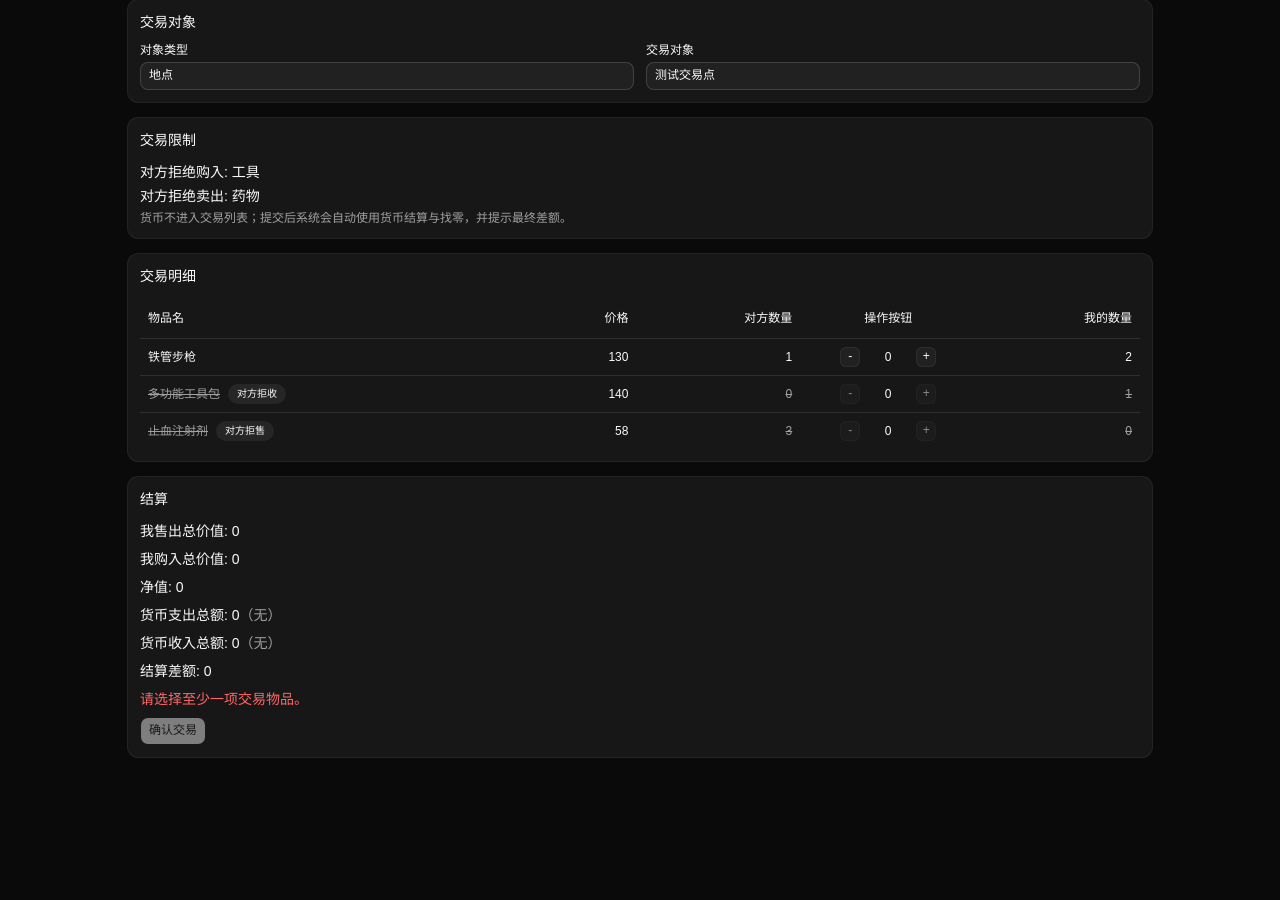
Scenario: TradePanel › shows auto currency income and expense preview in settlement before submit
Click the button named "减少铁管步枪" at [850, 356], box [840,346,860,366]
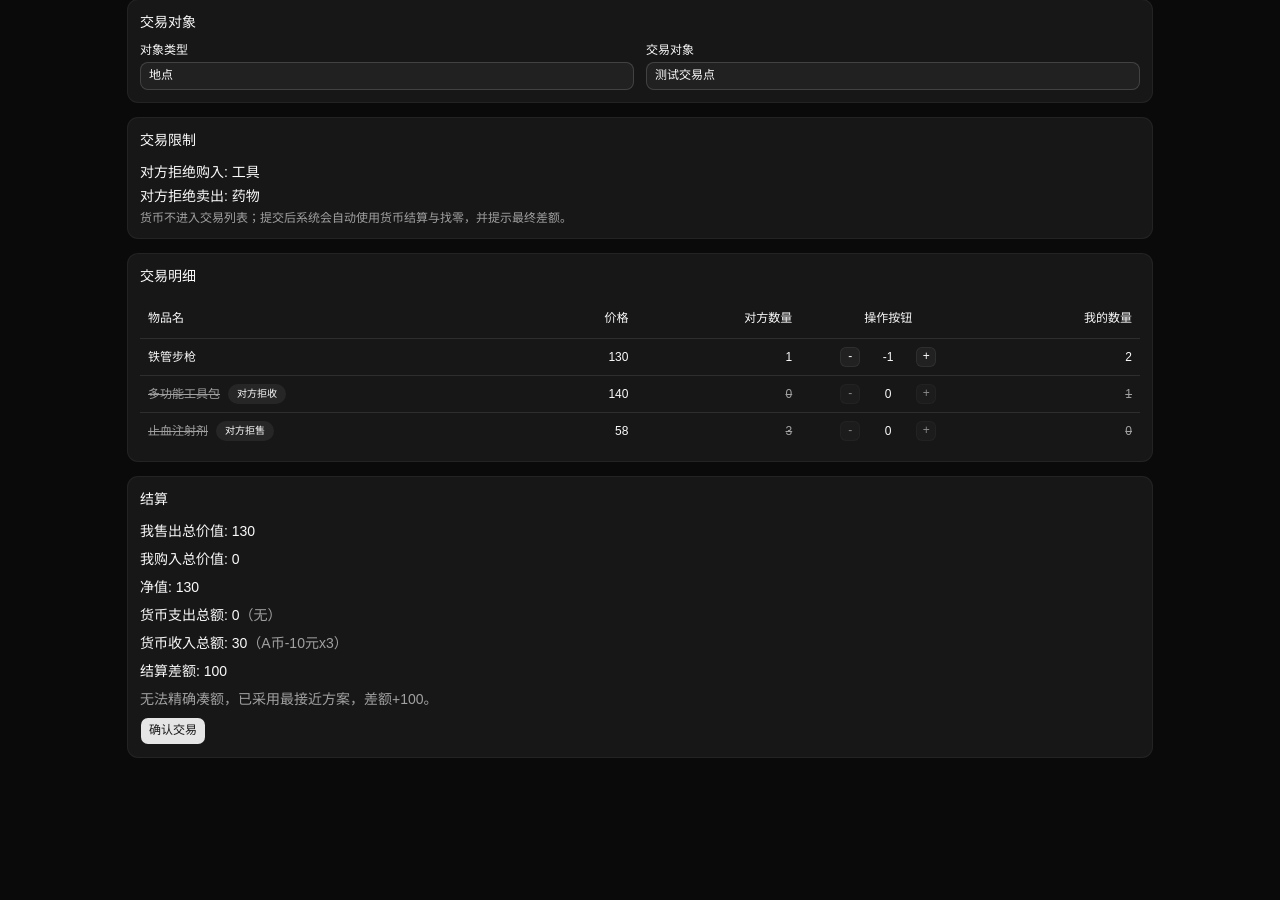
Expected: the text "净值: 130" is shown, [140,578,199,594]
